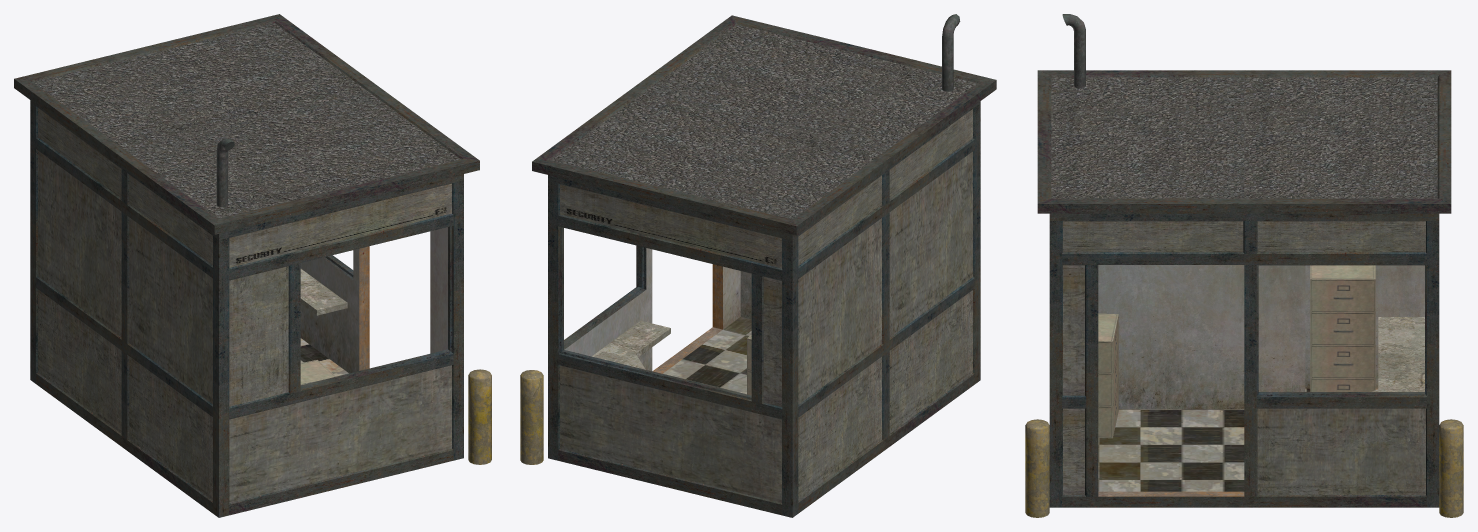
File: SecurityGate_A_SecurityGate_A.obj
3 renders of one model, left to right at view 1: azimuth 30°, elevation 25°; view 2: azimuth 150°, elevation 25°; view 3: azimuth 270°, elevation 25°, orthographic. The views are drawn at different scales.
Visible parts, largest first — view 1: SecurityGate_A_SecurityGate_A; view 2: SecurityGate_A_SecurityGate_A; view 3: SecurityGate_A_SecurityGate_A.
Part boxes in pixels (<box>): SecurityGate_A_SecurityGate_A: <box>14,14,491,517</box>; SecurityGate_A_SecurityGate_A: <box>520,14,996,517</box>; SecurityGate_A_SecurityGate_A: <box>1025,14,1463,517</box>.
Size of the model in its own units: 432 by 550 by 576.
Materials: 1 (1 with a texture image).
